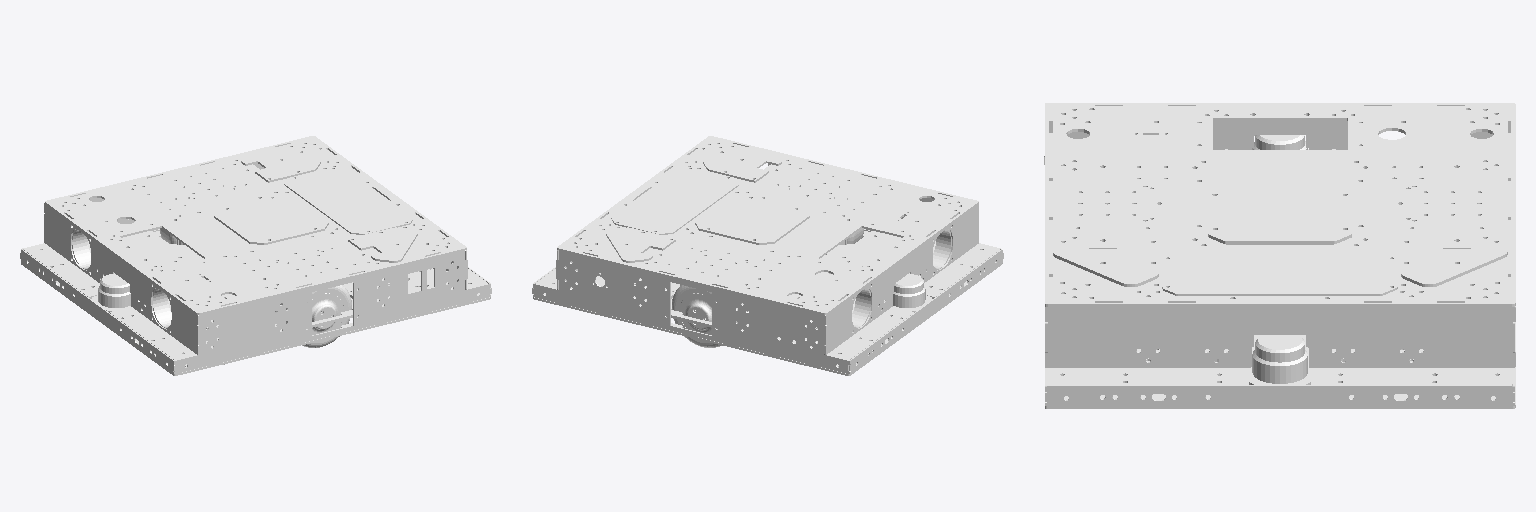
robot.urdf — robot_description:
<?xml version="1.0" encoding="utf-8"?>
<!-- This URDF was automatically created by SolidWorks to URDF Exporter! Originally created by
Stephen Brawner (brawner@gmail.com) 
     Commit Version: 1.6.0-4-g7f85cfe  Build Version: 1.6.7995.38578
     For more information, please see http://wiki.ros.org/sw_urdf_exporter -->
<robot
  name="robot_description">
  <link
    name="base_link">
    <inertial>
      <origin
        xyz="-0.00660149767421593 8.66963173211104E-05 0.0640208835301624"
        rpy="0 0 0" />
      <mass
        value="2.01990236304942" />
      <inertia
        ixx="0.0243094733892344"
        ixy="-1.59500625569967E-05"
        ixz="4.2183237609285E-06"
        iyy="0.0328254934944459"
        iyz="-1.1352110239344E-17"
        izz="0.0568558746301748" />
    </inertial>
    <visual>
      <origin
        xyz="0 0 0"
        rpy="0 0 0" />
      <geometry>
        <mesh
          filename="package://openmover/meshes/robot_description/base_link.STL" />
      </geometry>
      <material
        name="">
        <color
          rgba="1 1 1 1" />
      </material>
    </visual>
    <collision>
      <origin
        xyz="0 0 0"
        rpy="0 0 0" />
      <geometry>
        <mesh
          filename="package://openmover/meshes/robot_description/base_link.STL" />
      </geometry>
    </collision>
  </link>
  <link
    name="ball_front_left_link">
    <inertial>
      <origin
        xyz="0 0 0"
        rpy="0 0 0" />
      <mass
        value="0.0335103216382911" />
      <inertia
        ixx="5.36165146212658E-06"
        ixy="0"
        ixz="0"
        iyy="5.36165146212658E-06"
        iyz="0"
        izz="5.36165146212658E-06" />
    </inertial>
    <visual>
      <origin
        xyz="0 0 0"
        rpy="0 0 0" />
      <geometry>
        <mesh
          filename="package://openmover/meshes/robot_description/ball_front_left_link.STL" />
      </geometry>
      <material
        name="">
        <color
          rgba="1 1 1 1" />
      </material>
    </visual>
    <collision>
      <origin
        xyz="0 0 0"
        rpy="0 0 0" />
      <geometry>
        <mesh
          filename="package://openmover/meshes/robot_description/ball_front_left_link.STL" />
      </geometry>
    </collision>
  </link>
  <joint
    name="ball_front_left_joint"
    type="continuous">
    <origin
      xyz="0.14277 0.154 0.02015"
      rpy="0 0 0" />
    <parent
      link="base_link" />
    <child
      link="ball_front_left_link" />
    <axis
      xyz="1 1 1" />
  </joint>
  <link
    name="ball_front_right_link">
    <inertial>
      <origin
        xyz="0 0 0"
        rpy="0 0 0" />
      <mass
        value="0.0335103216382911" />
      <inertia
        ixx="5.36165146212658E-06"
        ixy="0"
        ixz="0"
        iyy="5.36165146212658E-06"
        iyz="0"
        izz="5.36165146212658E-06" />
    </inertial>
    <visual>
      <origin
        xyz="0 0 0"
        rpy="0 0 0" />
      <geometry>
        <mesh
          filename="package://openmover/meshes/robot_description/ball_front_right_link.STL" />
      </geometry>
      <material
        name="">
        <color
          rgba="1 1 1 1" />
      </material>
    </visual>
    <collision>
      <origin
        xyz="0 0 0"
        rpy="0 0 0" />
      <geometry>
        <mesh
          filename="package://openmover/meshes/robot_description/ball_front_right_link.STL" />
      </geometry>
    </collision>
  </link>
  <joint
    name="ball_front_right_joint"
    type="continuous">
    <origin
      xyz="0.14277 -0.154 0.02015"
      rpy="0 0 0" />
    <parent
      link="base_link" />
    <child
      link="ball_front_right_link" />
    <axis
      xyz="1 1 1" />
  </joint>
  <link
    name="ball_rear_left_link">
    <inertial>
      <origin
        xyz="0 0 0"
        rpy="0 0 0" />
      <mass
        value="0.0335103216382911" />
      <inertia
        ixx="5.36165146212658E-06"
        ixy="0"
        ixz="0"
        iyy="5.36165146212658E-06"
        iyz="0"
        izz="5.36165146212658E-06" />
    </inertial>
    <visual>
      <origin
        xyz="0 0 0"
        rpy="0 0 0" />
      <geometry>
        <mesh
          filename="package://openmover/meshes/robot_description/ball_rear_left_link.STL" />
      </geometry>
      <material
        name="">
        <color
          rgba="1 1 1 1" />
      </material>
    </visual>
    <collision>
      <origin
        xyz="0 0 0"
        rpy="0 0 0" />
      <geometry>
        <mesh
          filename="package://openmover/meshes/robot_description/ball_rear_left_link.STL" />
      </geometry>
    </collision>
  </link>
  <joint
    name="ball_rear_left_joint"
    type="continuous">
    <origin
      xyz="-0.14277 0.154 0.02015"
      rpy="0 0 0" />
    <parent
      link="base_link" />
    <child
      link="ball_rear_left_link" />
    <axis
      xyz="1 1 1" />
  </joint>
  <link
    name="ball_rear_right_link">
    <inertial>
      <origin
        xyz="0 0 0"
        rpy="0 0 0" />
      <mass
        value="0.0335103216382911" />
      <inertia
        ixx="5.36165146212658E-06"
        ixy="0"
        ixz="0"
        iyy="5.36165146212658E-06"
        iyz="0"
        izz="5.36165146212658E-06" />
    </inertial>
    <visual>
      <origin
        xyz="0 0 0"
        rpy="0 0 0" />
      <geometry>
        <mesh
          filename="package://openmover/meshes/robot_description/ball_rear_right_link.STL" />
      </geometry>
      <material
        name="">
        <color
          rgba="1 1 1 1" />
      </material>
    </visual>
    <collision>
      <origin
        xyz="0 0 0"
        rpy="0 0 0" />
      <geometry>
        <mesh
          filename="package://openmover/meshes/robot_description/ball_rear_right_link.STL" />
      </geometry>
    </collision>
  </link>
  <joint
    name="ball_rear_right_joint"
    type="continuous">
    <origin
      xyz="-0.14277 -0.154 0.02015"
      rpy="0 0 0" />
    <parent
      link="base_link" />
    <child
      link="ball_rear_right_link" />
    <axis
      xyz="1 1 1" />
  </joint>
  <link
    name="wheel_left_link">
    <inertial>
      <origin
        xyz="5.01415088701073E-08 0.000445205570171026 1.00377001269192E-06"
        rpy="0 0 0" />
      <mass
        value="0.327518385161466" />
      <inertia
        ixx="0.00024153164506317"
        ixy="3.13050691911966E-10"
        ixz="-8.8460686609724E-11"
        iyy="0.000394059210182772"
        iyz="1.42066802278337E-08"
        izz="0.000241532823343104" />
    </inertial>
    <visual>
      <origin
        xyz="0 0 0"
        rpy="0 0 0" />
      <geometry>
        <mesh
          filename="package://openmover/meshes/robot_description/wheel_left_link.STL" />
      </geometry>
      <material
        name="">
        <color
          rgba="1 1 1 1" />
      </material>
    </visual>
    <collision>
      <origin
        xyz="0 0 0"
        rpy="0 0 0" />
      <geometry>
        <mesh
          filename="package://openmover/meshes/robot_description/wheel_left_link.STL" />
      </geometry>
    </collision>
  </link>
  <joint
    name="wheel_left_joint"
    type="continuous">
    <origin
      xyz="0 0.162 0.050353"
      rpy="0 0 0" />
    <parent
      link="base_link" />
    <child
      link="wheel_left_link" />
    <axis
      xyz="0 1 0" />
  </joint>
  <link
    name="wheel_right_link">
    <inertial>
      <origin
        xyz="-5.01415088744362E-08 -0.000445205570171081 1.0037700127058E-06"
        rpy="0 0 0" />
      <mass
        value="0.327518385161466" />
      <inertia
        ixx="0.000241531645063171"
        ixy="3.13050691909688E-10"
        ixz="8.84606866186807E-11"
        iyy="0.000394059210182772"
        iyz="-1.42066802278213E-08"
        izz="0.000241532823343105" />
    </inertial>
    <visual>
      <origin
        xyz="0 0 0"
        rpy="0 0 0" />
      <geometry>
        <mesh
          filename="package://openmover/meshes/robot_description/wheel_right_link.STL" />
      </geometry>
      <material
        name="">
        <color
          rgba="1 1 1 1" />
      </material>
    </visual>
    <collision>
      <origin
        xyz="0 0 0"
        rpy="0 0 0" />
      <geometry>
        <mesh
          filename="package://openmover/meshes/robot_description/wheel_right_link.STL" />
      </geometry>
    </collision>
  </link>
  <joint
    name="wheel_right_joint"
    type="continuous">
    <origin
      xyz="0 -0.162 0.050353"
      rpy="0 0 0" />
    <parent
      link="base_link" />
    <child
      link="wheel_right_link" />
    <axis
      xyz="0 1 0" />
  </joint>
  <link
    name="lidar_forward_link">
    <inertial>
      <origin
        xyz="2.77555756156289E-17 -0.000204086649207709 -0.0223177170942347"
        rpy="0 0 0" />
      <mass
        value="0.114083782551603" />
      <inertia
        ixx="4.62423570529685E-05"
        ixy="-8.54010057902067E-21"
        ixz="-6.87738023633627E-21"
        iyy="4.55161064574196E-05"
        iyz="-4.17516928836694E-07"
        izz="4.46165327139611E-05" />
    </inertial>
    <visual>
      <origin
        xyz="0 0 0"
        rpy="0 0 0" />
      <geometry>
        <mesh
          filename="package://openmover/meshes/robot_description/lidar_forward_link.STL" />
      </geometry>
      <material
        name="">
        <color
          rgba="1 1 1 1" />
      </material>
    </visual>
    <collision>
      <origin
        xyz="0 0 0"
        rpy="0 0 0" />
      <geometry>
        <mesh
          filename="package://openmover/meshes/robot_description/lidar_forward_link.STL" />
      </geometry>
    </collision>
  </link>
  <joint
    name="lidar_forward_joint"
    type="fixed">
    <origin
      xyz="0.22015 0 0.07513"
      rpy="0 0 0" />
    <parent
      link="base_link" />
    <child
      link="lidar_forward_link" />
    <axis
      xyz="0 0 0" />
  </joint>
  <link
    name="lidar_rear_link">
    <inertial>
      <origin
        xyz="0 -0.000204086649207707 -0.0223177170942347"
        rpy="0 0 0" />
      <mass
        value="0.114083782551603" />
      <inertia
        ixx="4.62423570529685E-05"
        ixy="2.75697946136096E-22"
        ixz="-3.88465648896948E-23"
        iyy="4.55161064574196E-05"
        iyz="-4.17516928836694E-07"
        izz="4.46165327139611E-05" />
    </inertial>
    <visual>
      <origin
        xyz="0 0 0"
        rpy="0 0 0" />
      <geometry>
        <mesh
          filename="package://openmover/meshes/robot_description/lidar_rear_link.STL" />
      </geometry>
      <material
        name="">
        <color
          rgba="1 1 1 1" />
      </material>
    </visual>
    <collision>
      <origin
        xyz="0 0 0"
        rpy="0 0 0" />
      <geometry>
        <mesh
          filename="package://openmover/meshes/robot_description/lidar_rear_link.STL" />
      </geometry>
    </collision>
  </link>
  <joint
    name="lidar_rear_joint"
    type="fixed">
    <origin
      xyz="-0.22015 0 0.07513"
      rpy="0 0 3.1416" />
    <parent
      link="base_link" />
    <child
      link="lidar_rear_link" />
    <axis
      xyz="0 0 0" />
  </joint>

  <!-- 轮子摩擦系数设置 -->
  <gazebo reference="wheel_left_link">
    <mu1 value="200.0" />
    <mu2 value="100.0" />
    <kp value="10000000.0" />
    <kd value="1.0" />
    <material>Gazebo/Grey</material>
  </gazebo>
  <gazebo reference="wheel_right_link">
    <mu1 value="200.0" />
    <mu2 value="100.0" />
    <kp value="10000000.0" />
    <kd value="1.0" />
    <material>Gazebo/Grey</material>
  </gazebo>
  <gazebo reference="ball_front_left_link">
    <mu1 value="0.0" />
    <mu2 value="0.0" />
    <kp value="10000000.0" />
    <kd value="1.0" />
    <material>Gazebo/Grey</material>
  </gazebo>
  <gazebo reference="ball_front_right_link">
    <mu1 value="0.0" />
    <mu2 value="0.0" />
    <kp value="10000000.0" />
    <kd value="1.0" />
    <material>Gazebo/Grey</material>
  </gazebo>
  <gazebo reference="ball_rear_left_link">
    <mu1 value="0.0" />
    <mu2 value="0.0" />
    <kp value="10000000.0" />
    <kd value="1.0" />
    <material>Gazebo/Grey</material>
  </gazebo>
  <gazebo reference="ball_rear_right_link">
    <mu1 value="0.0" />
    <mu2 value="0.0" />
    <kp value="10000000.0" />
    <kd value="1.0" />
    <material>Gazebo/Grey</material>
  </gazebo>

  <!-- 主动轮差速驱动设置（Gazebo Harmonic） -->
  <!-- 指令话题为默认 /model/robot_description/cmd_vel，由 ros_gz_bridge 桥接
       ROS /openmover/control/cmd_vel_sim；里程计/TF 话题与 ROS 1 保持一致 -->
  <gazebo>
    <plugin name="gz::sim::systems::DiffDrive" filename="gz-sim-diff-drive-system">
      <left_joint>wheel_left_joint</left_joint>
      <right_joint>wheel_right_joint</right_joint>
      <wheel_separation>0.324</wheel_separation>
      <wheel_radius>0.05035</wheel_radius>
      <odom_topic>openmover/hardware/odom_sim</odom_topic>
      <tf_topic>openmover/tf</tf_topic>
      <child_frame_id>base_link</child_frame_id>
      <odom_publish_frequency>50</odom_publish_frequency>
    </plugin>
  </gazebo>

  <!-- 雷达设置（Gazebo Harmonic 仅支持 gpu_lidar，经 ros_gz_bridge 桥接为 ROS LaserScan） -->
  <gazebo reference="lidar_forward_link">
    <sensor type="gpu_lidar" name="lidar_forward">
      <pose>0 0 0 0 0 0</pose>
      <topic>openmover/hardware/lidar_forward/scan</topic>
      <gz_frame_id>lidar_forward_link</gz_frame_id>
      <update_rate>15</update_rate>
      <always_on>true</always_on>
      <visualize>false</visualize>
      <lidar>
        <scan>
          <horizontal>
            <samples>600</samples>
            <resolution>1</resolution>
            <min_angle>-1.57</min_angle>
            <max_angle>1.57</max_angle>
          </horizontal>
        </scan>
        <range>
          <min>0.22</min>
          <max>10.0</max>
          <resolution>0.03</resolution>
        </range>
        <noise>
          <type>gaussian</type>
          <mean>0.0</mean>
          <stddev>0.01</stddev>
        </noise>
      </lidar>
    </sensor>
  </gazebo>
  <gazebo reference="lidar_rear_link">
    <sensor type="gpu_lidar" name="lidar_rear">
      <pose>0 0 0 0 0 0</pose>
      <topic>openmover/hardware/lidar_rear/scan</topic>
      <gz_frame_id>lidar_rear_link</gz_frame_id>
      <update_rate>15</update_rate>
      <always_on>true</always_on>
      <visualize>false</visualize>
      <lidar>
        <scan>
          <horizontal>
            <samples>600</samples>
            <resolution>1</resolution>
            <min_angle>-1.57</min_angle>
            <max_angle>1.57</max_angle>
          </horizontal>
        </scan>
        <range>
          <min>0.22</min>
          <max>10.0</max>
          <resolution>0.03</resolution>
        </range>
        <noise>
          <type>gaussian</type>
          <mean>0.0</mean>
          <stddev>0.01</stddev>
        </noise>
      </lidar>
    </sensor>
  </gazebo>
</robot>

--- What the picture shows (computed from the rendered views, not written in the file) ---
3 views of the same robot in one strip: view 1: azimuth 30°, elevation 25°; view 2: azimuth 150°, elevation 25°; view 3: azimuth 270°, elevation 25° (orthographic).
Model robot_description with 9 links and 8 joints (6 continuous, 2 fixed), rooted at base_link, posed all joints at 0.
Links seen in each view (by area): view 1: base_link, wheel_right_link, lidar_rear_link; view 2: base_link, wheel_left_link, lidar_rear_link; view 3: base_link, lidar_forward_link, lidar_rear_link.
Link boxes in pixels (bbox=[...]): base_link: bbox=[20, 136, 491, 375]; wheel_right_link: bbox=[280, 285, 351, 347]; lidar_rear_link: bbox=[92, 274, 130, 311]; base_link: bbox=[532, 136, 1003, 375]; wheel_left_link: bbox=[672, 285, 743, 347]; lidar_rear_link: bbox=[884, 274, 931, 311]; base_link: bbox=[1044, 103, 1515, 408]; lidar_forward_link: bbox=[1249, 335, 1310, 384]; lidar_rear_link: bbox=[1252, 135, 1307, 149].
Bounding box of the posed robot: 0.5008 × 0.4202 × 0.1171 m (x, y, z).
Meshes: 9 distinct files referenced, 7 mesh visuals loaded (7 binary STL); not drawn: 2 (reference not matched to a file when rendering).
